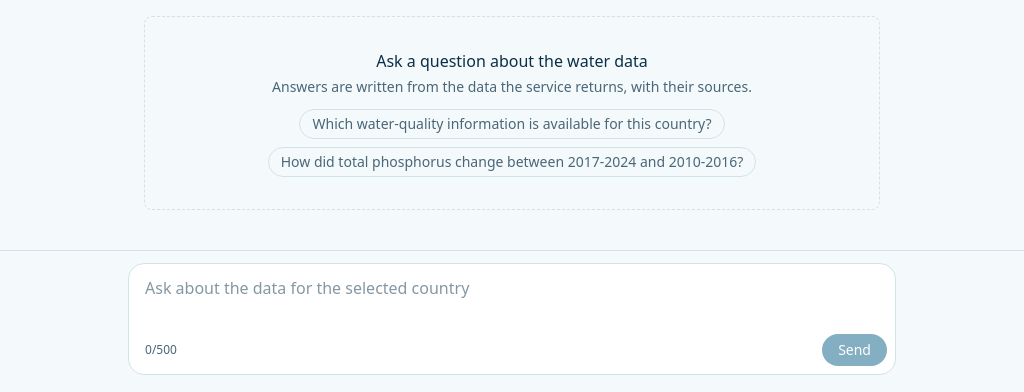
Scenario: ChatView › shows a network failure as an error
The image size is (1024, 392).
Click the text box named "Your question". click: (512, 300)
box: [137,272,887,328]
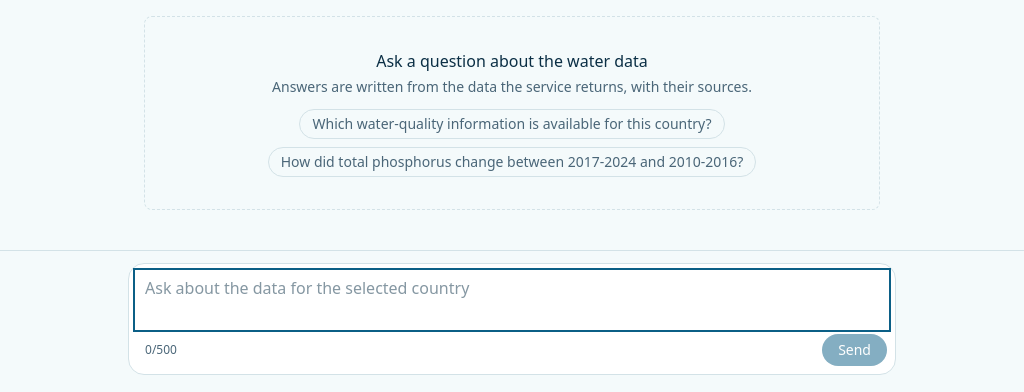
Type keys "hello"
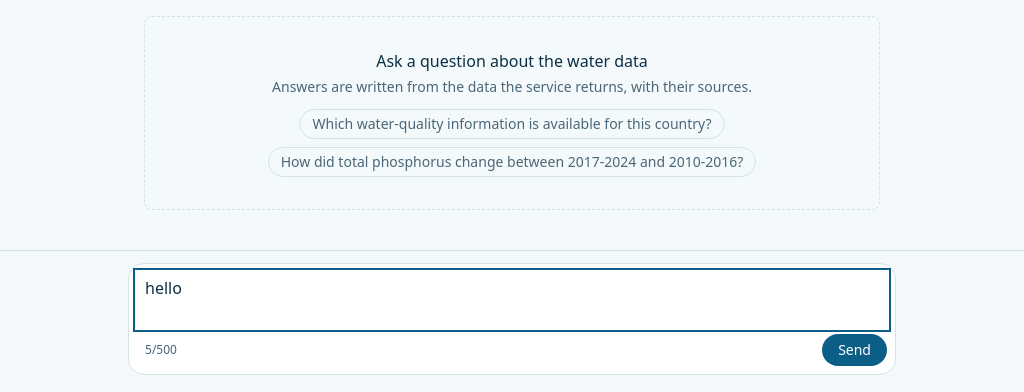
Click the button "Send". click: (855, 350)
box: [822,334,887,366]
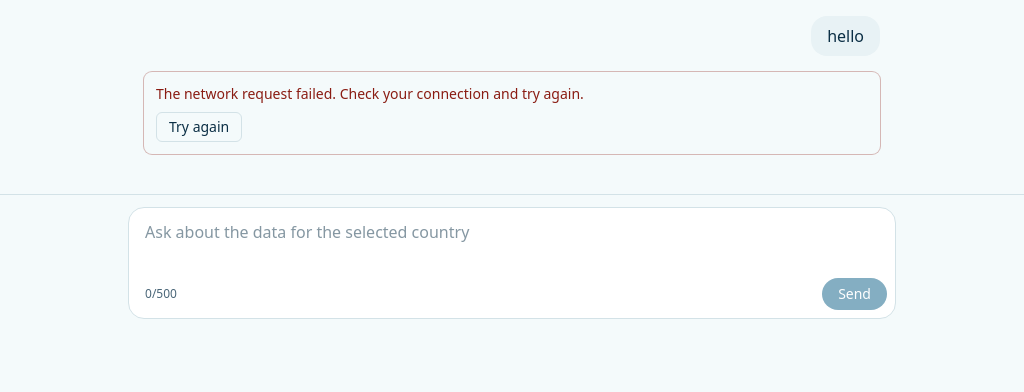
Expected: the message "The network request failed. Check your connection and try again. Try again" is shown, [144,72,880,154]
